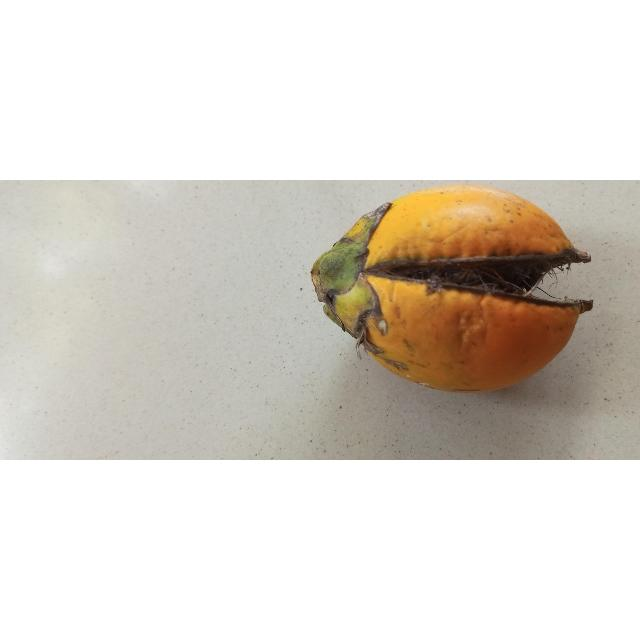damaged: (311, 185, 593, 393)
